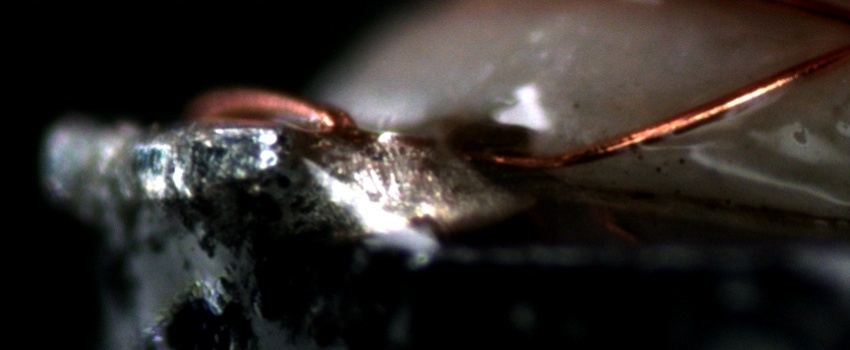TE: (185, 88, 356, 138)
